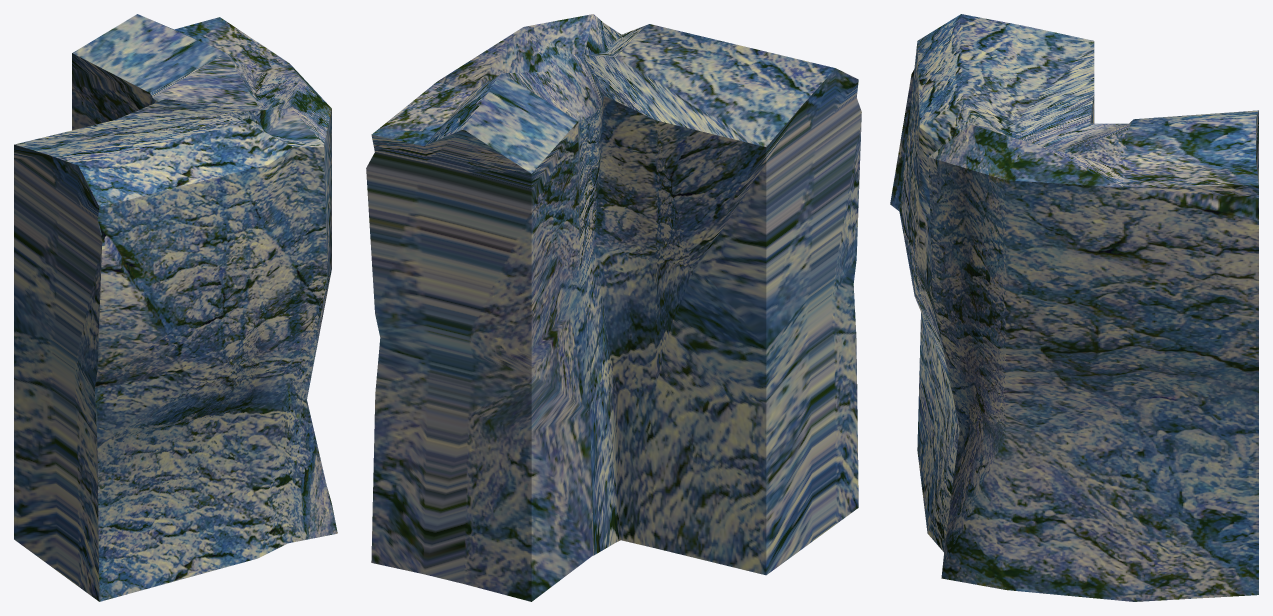
The model's file is rockWall_left_convex.fbx.
3 views of the same model, side by side, from view 1: azimuth 30°, elevation 25°; view 2: azimuth 150°, elevation 25°; view 3: azimuth 270°, elevation 25° (orthographic). The views are drawn at different scales.
Visible parts, largest first — view 1: pPlane11; view 2: pPlane11; view 3: pPlane11.
Boxes of the visible parts, x1,y1,x2,y2 form: pPlane11: (14, 14, 337, 601); pPlane11: (366, 14, 861, 601); pPlane11: (890, 14, 1258, 601).
Size of the model in its own units: 8.71 by 8.97 by 11.83.
